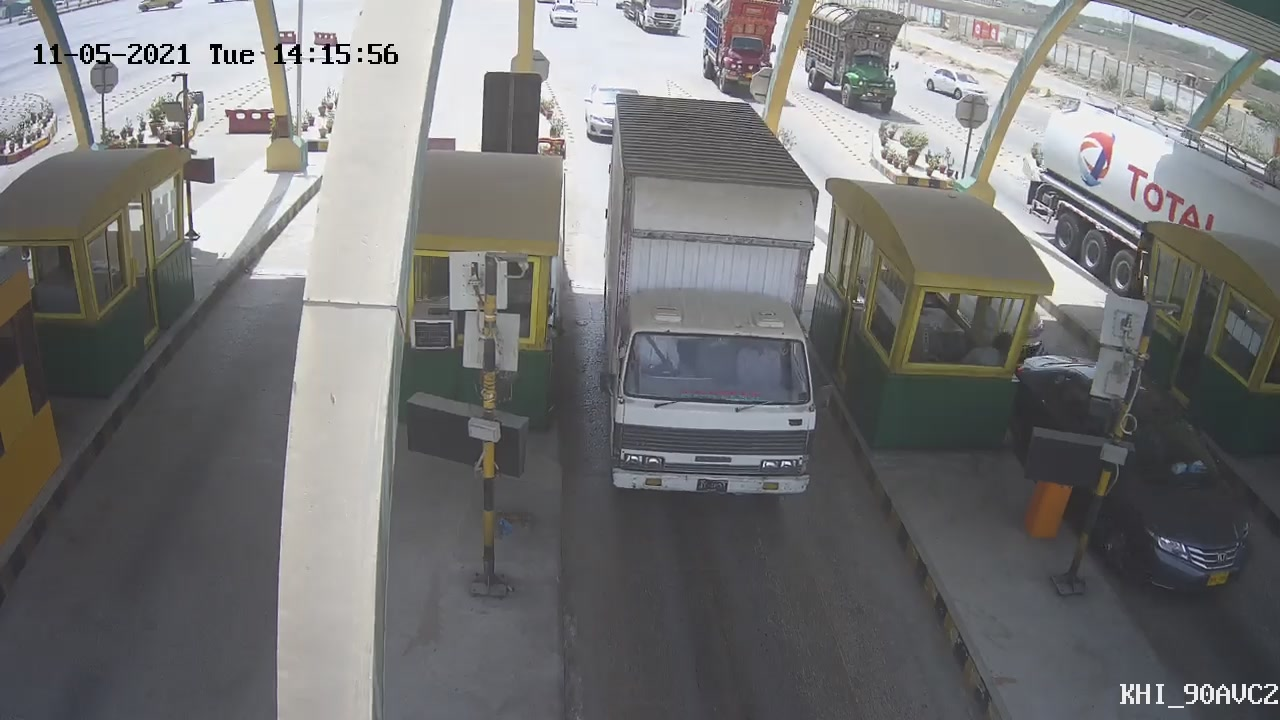F5: (604, 93, 838, 529)
